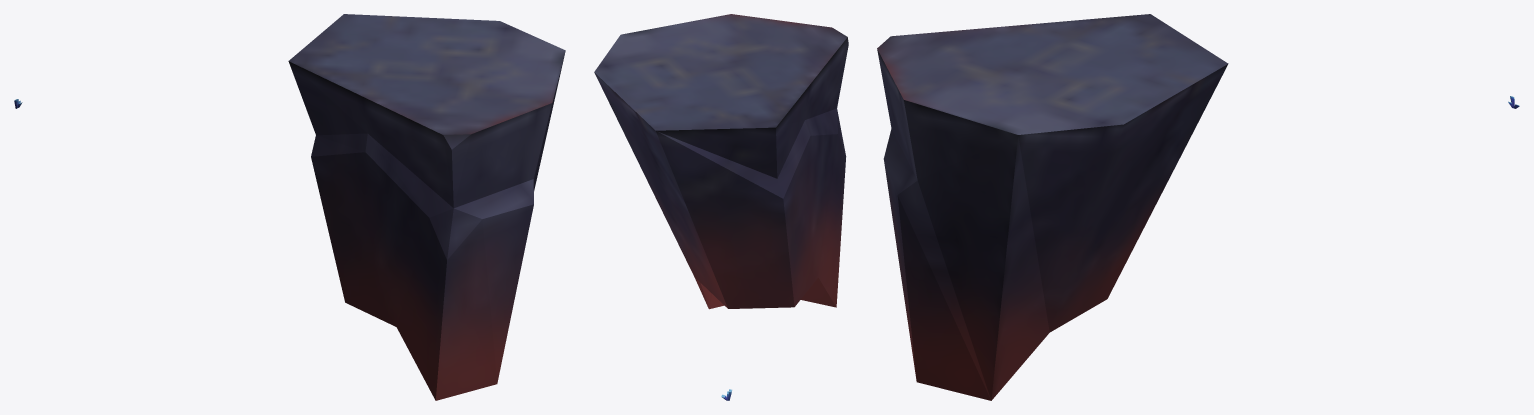
Rendered from Area05_4_y.FBX.
3 views of the same model, side by side, from view 1: azimuth 30°, elevation 25°; view 2: azimuth 150°, elevation 25°; view 3: azimuth 270°, elevation 25° (orthographic). The views are drawn at different scales.
Parts seen in each view (by area): view 1: Area05_4_y; view 2: Area05_4_y; view 3: Area05_4_y.
Part boxes in pixels (x1,y1,x2,y2): Area05_4_y: (14, 14, 565, 400); Area05_4_y: (594, 14, 848, 400); Area05_4_y: (877, 14, 1519, 400).
Size of the model in its own units: 1920 by 1505 by 2830.
